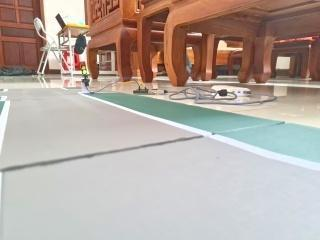green: (76, 59, 92, 79)
